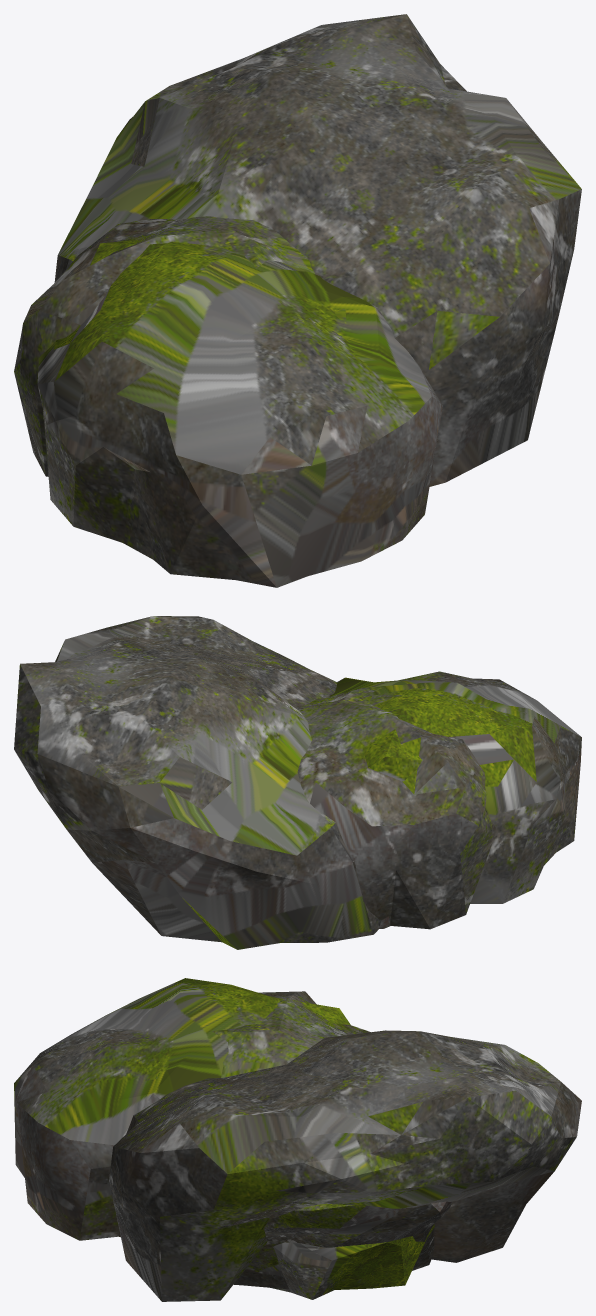
The model's file is rock_coast_kit_01_mesh_12pcs.glb.
3 renders of one model, top to bottom at view 1: azimuth 30°, elevation 25°; view 2: azimuth 150°, elevation 25°; view 3: azimuth 270°, elevation 25°, orthographic. The views are drawn at different scales.
Parts seen in each view (by area): view 1: SM_CoastRock_12; view 2: SM_CoastRock_12; view 3: SM_CoastRock_12, SM_CoastRock_11, SM_CoastRock_10.
Part boxes in pixels (x1,y1,x2,y2): SM_CoastRock_12: [14, 14, 581, 587]; SM_CoastRock_12: [14, 616, 581, 949]; SM_CoastRock_12: [14, 978, 581, 1301]; SM_CoastRock_11: [234, 1201, 452, 1289]; SM_CoastRock_10: [270, 1224, 434, 1299].
Size of the model in its own units: 5.07 by 2.52 by 5.4.
Materials: 1 (1 with a texture image).
